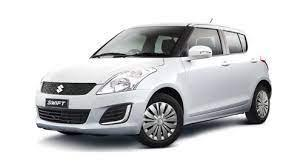Hatchback: (34, 20, 273, 146)
